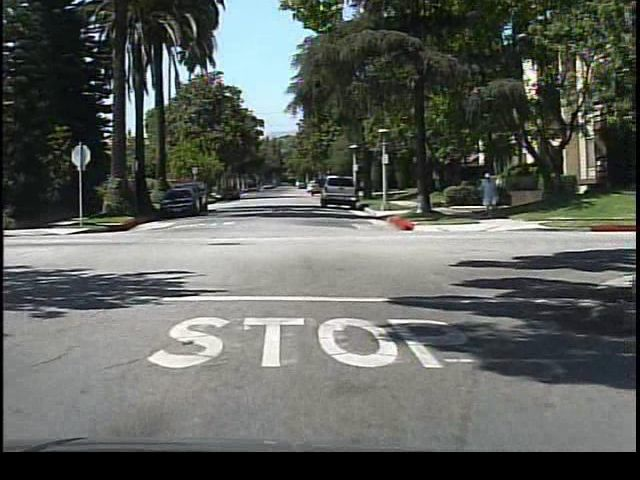person: (477, 168, 501, 219)
